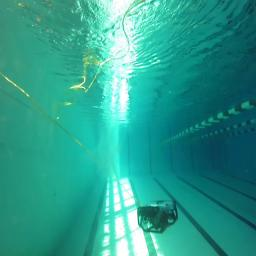Side: (137, 199, 179, 235)
front: (138, 200, 178, 234)
